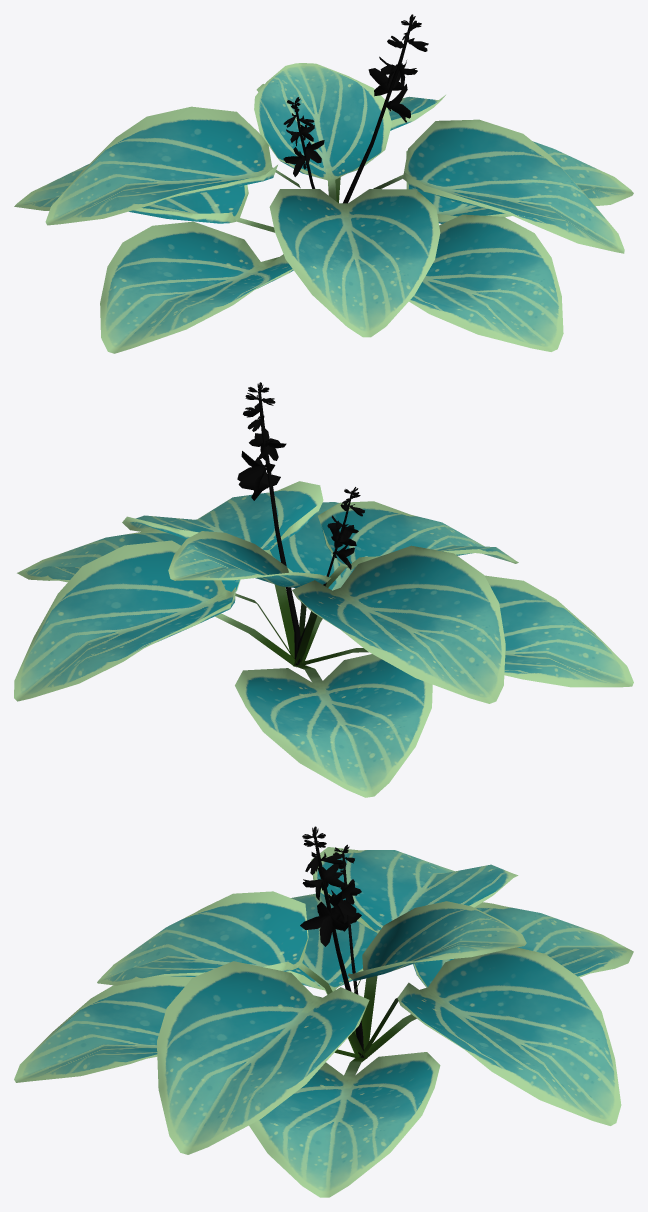
File: Hosta_GF_03.fbx
The picture shows the model from 3 angles, top to bottom: view 1: azimuth 30°, elevation 25°; view 2: azimuth 150°, elevation 25°; view 3: azimuth 270°, elevation 25°; orthographic projection. The views are drawn at different scales.
Parts seen in each view (by area): view 1: Hosta_G_03; view 2: Hosta_G_03; view 3: Hosta_G_03.
Part boxes in pixels (left/top/right/bottom): Hosta_G_03: left=14, top=14, right=633, bottom=353; Hosta_G_03: left=14, top=382, right=633, bottom=797; Hosta_G_03: left=14, top=826, right=633, bottom=1197.
Size of the model in its own units: 116 by 47.7 by 103.
